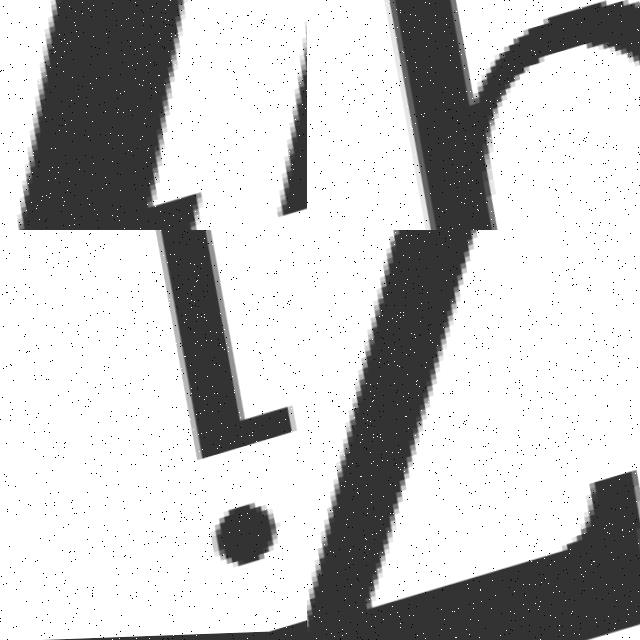7: (307, 230, 640, 640)
J: (84, 230, 307, 581)
Q: (307, 0, 640, 230)
U: (0, 0, 307, 230)
